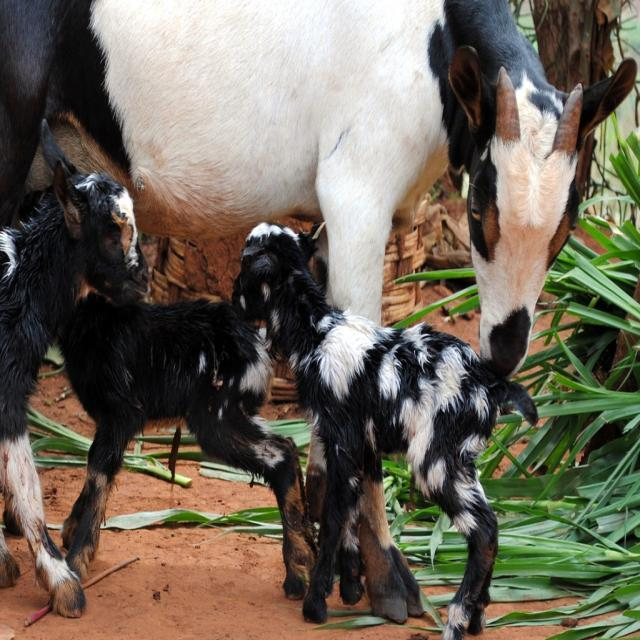Goat: (0, 119, 318, 616), (231, 219, 539, 639), (0, 118, 151, 619)
